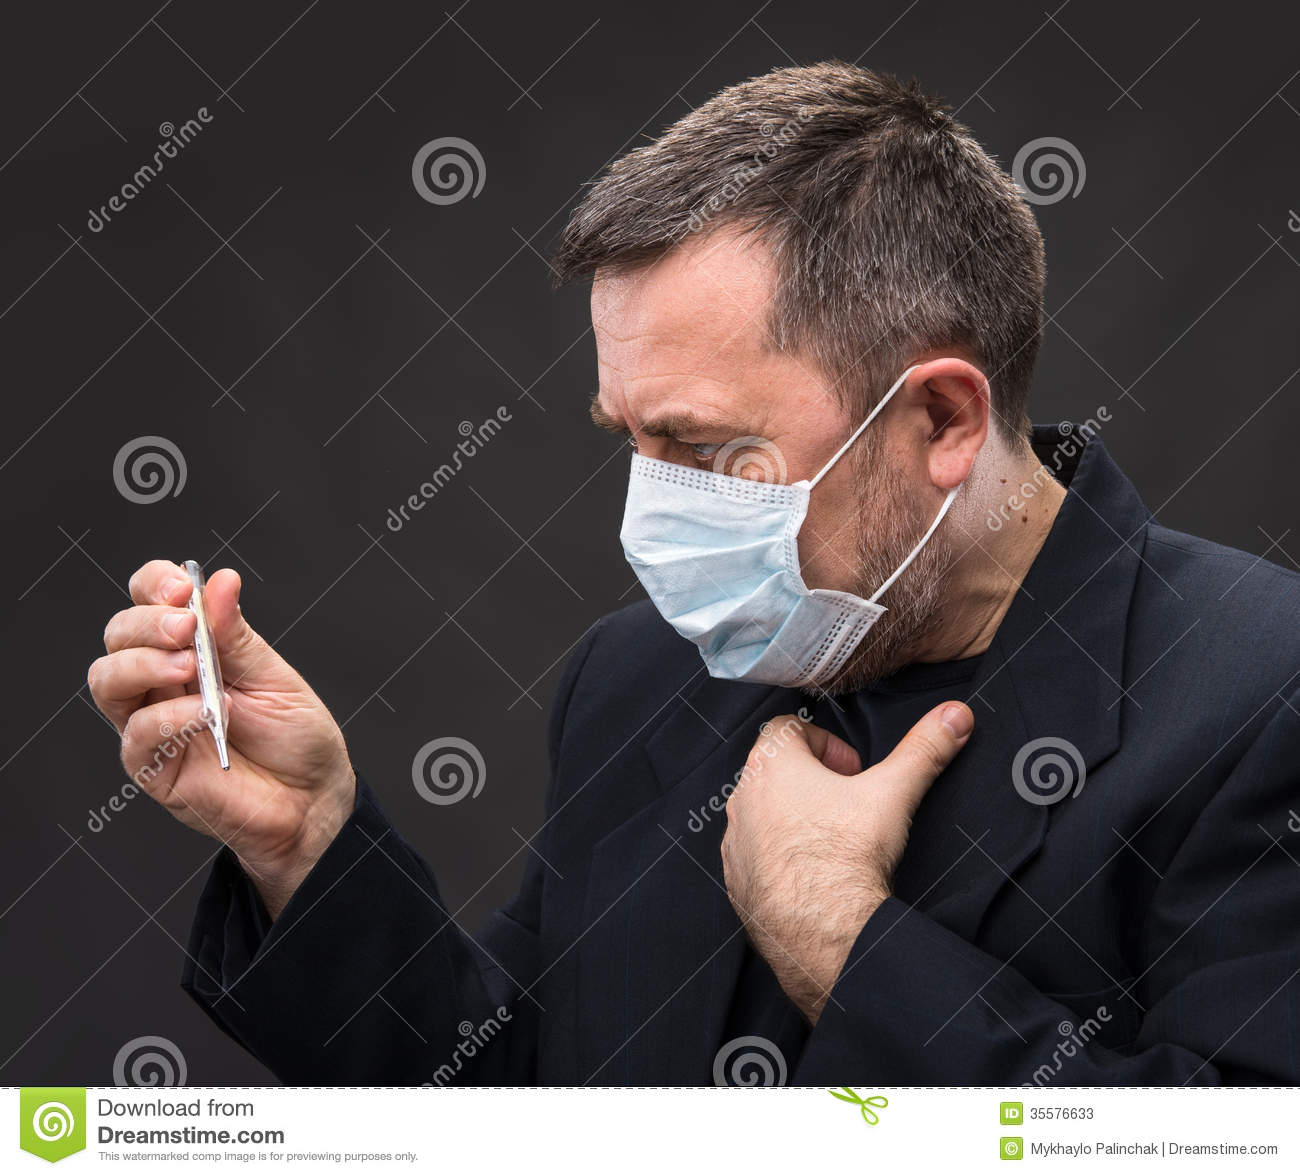mask: (598, 457, 878, 705)
